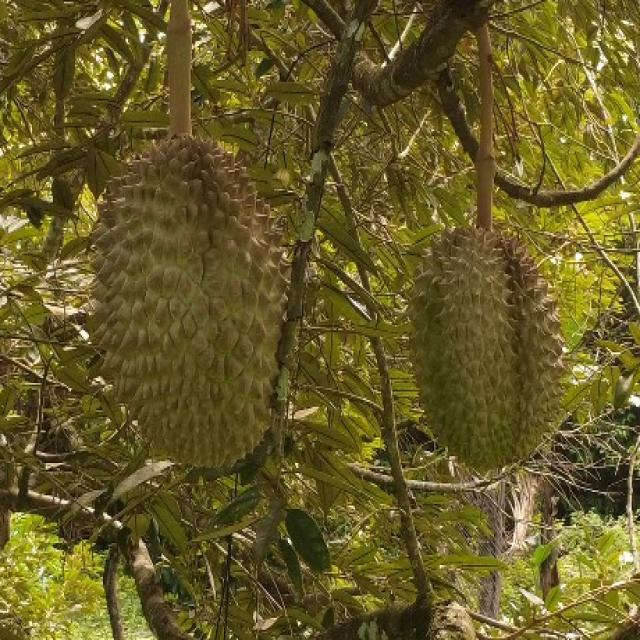immature: (88, 136, 293, 470), (401, 225, 565, 482)
